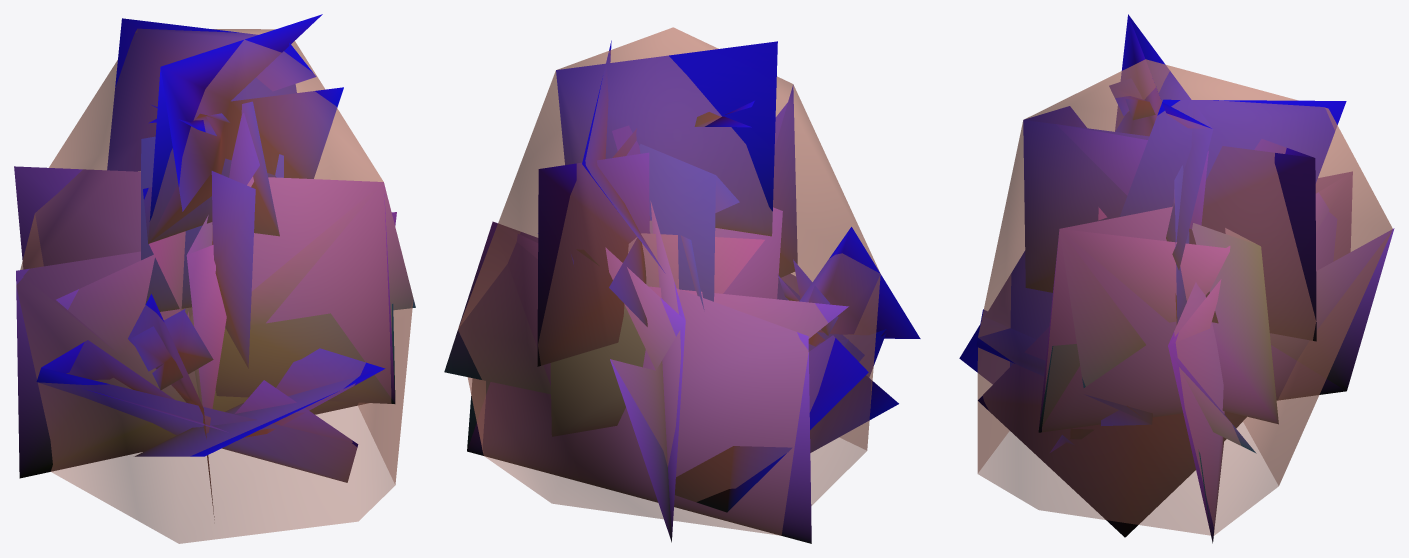
File: tree_oak_bush_a.dae
3 views of the same model, side by side, from view 1: azimuth 30°, elevation 25°; view 2: azimuth 150°, elevation 25°; view 3: azimuth 270°, elevation 25° (orthographic). The views are drawn at different scales.
Parts seen in each view (by area): view 1: Colmesh_bush_01-1, OakBush_01_a400, OakBush_01_a150; view 2: Colmesh_bush_01-1, OakBush_01_a150, OakBush_01_a400; view 3: Colmesh_bush_01-1, OakBush_01_a150, OakBush_01_a400.
Part boxes in pixels (x1=…): Colmesh_bush_01-1: x1=16, y1=28, x2=413, y2=543; OakBush_01_a400: x1=16, y1=14, x2=415, y2=516; OakBush_01_a150: x1=14, y1=67, x2=396, y2=482; Colmesh_bush_01-1: x1=458, y1=27, x2=880, y2=535; OakBush_01_a150: x1=467, y1=41, x2=886, y2=543; OakBush_01_a400: x1=444, y1=40, x2=920, y2=541; Colmesh_bush_01-1: x1=977, y1=59, x2=1392, y2=535; OakBush_01_a150: x1=959, y1=15, x2=1352, y2=542; OakBush_01_a400: x1=978, y1=14, x2=1394, y2=537.
Size of the model in its own units: 1.48 by 1.66 by 1.8.
